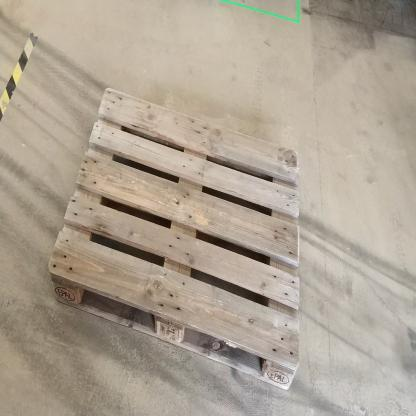BoxFace: (45, 79, 303, 399)
